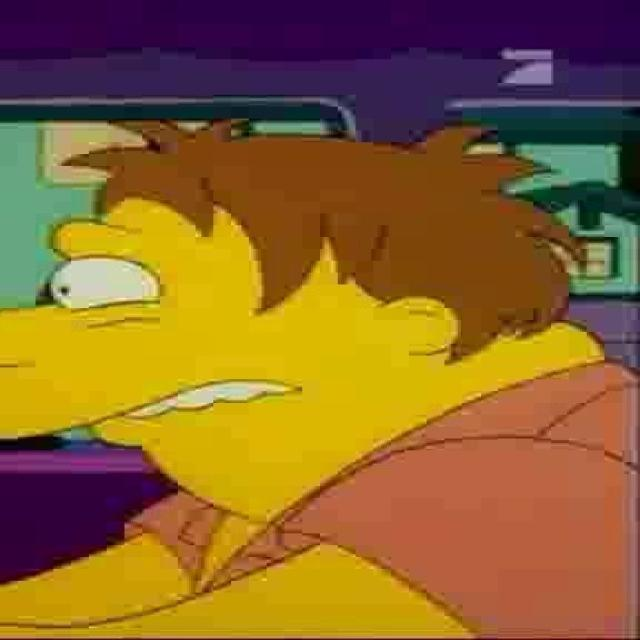Barney Gumble: (1, 118, 612, 528)
